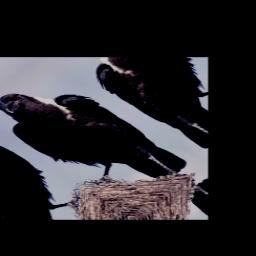Crow: (0, 65, 198, 213)
